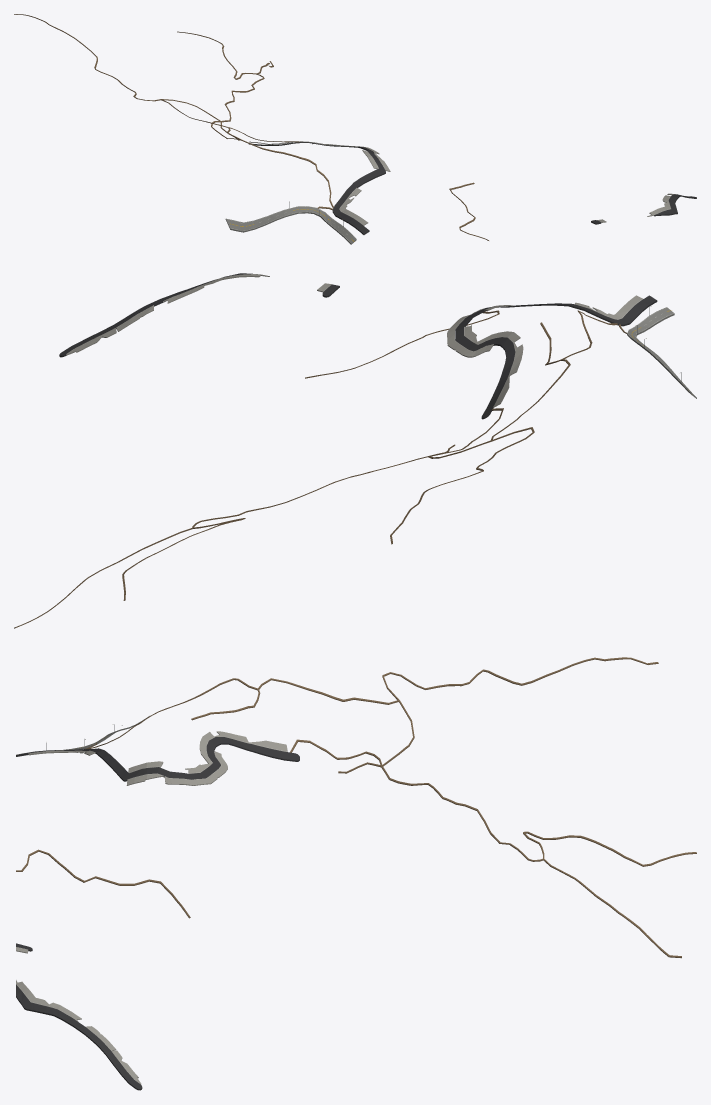
The picture shows the model from 3 angles, top to bottom: view 1: azimuth 30°, elevation 25°; view 2: azimuth 150°, elevation 25°; view 3: azimuth 270°, elevation 25°; orthographic projection. The views are drawn at different scales.
Size of the model in its own units: 510 by 150 by 546.
